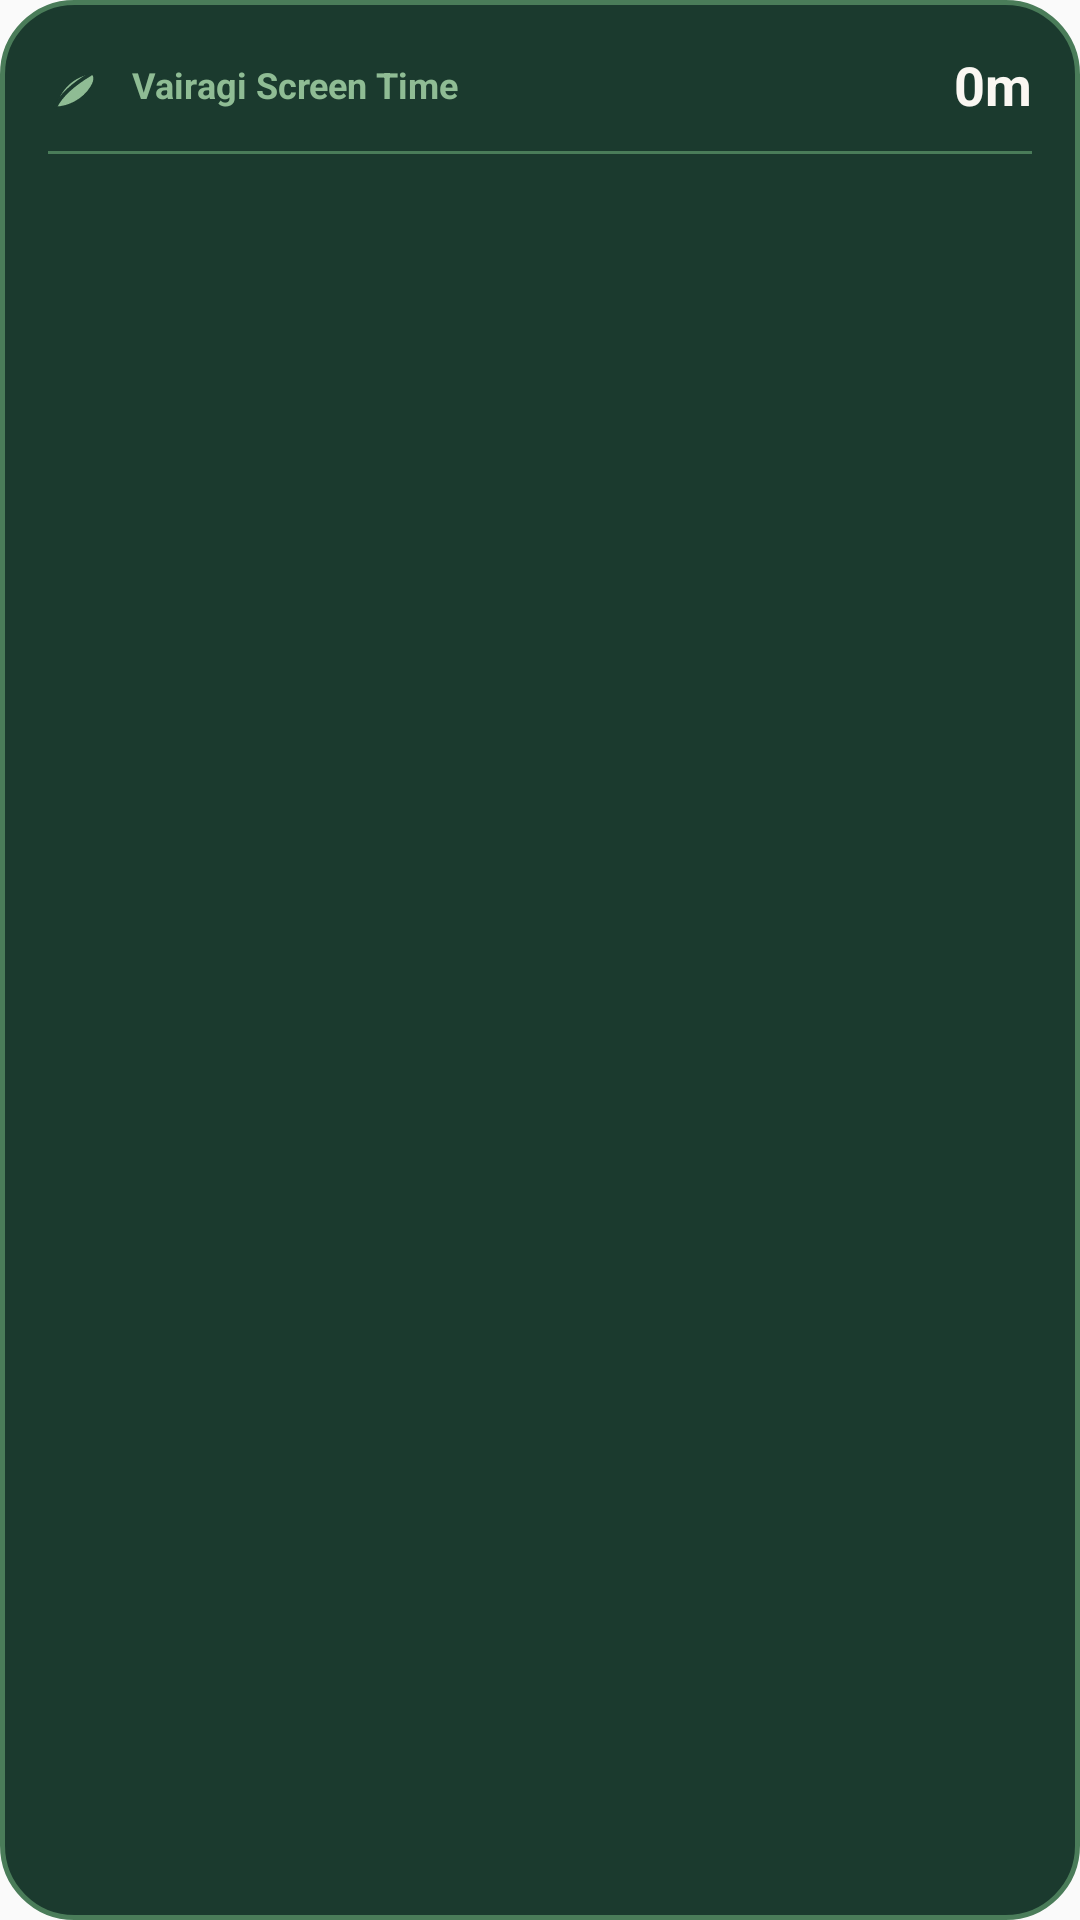

Named icons in this screenshot (1080 × 1920) and their centers, (x,y):
widget leaf: (76,91)
